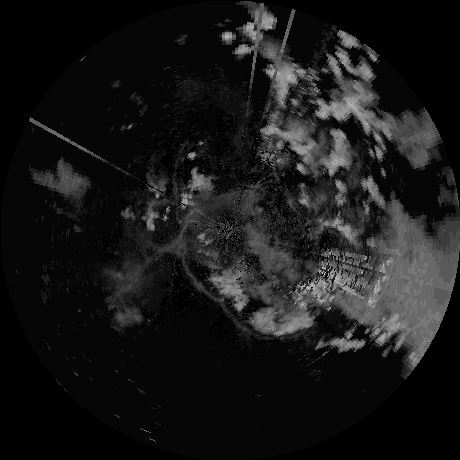frontgust: (219, 303, 276, 343), (181, 253, 221, 301), (177, 209, 193, 252), (172, 149, 184, 204)
